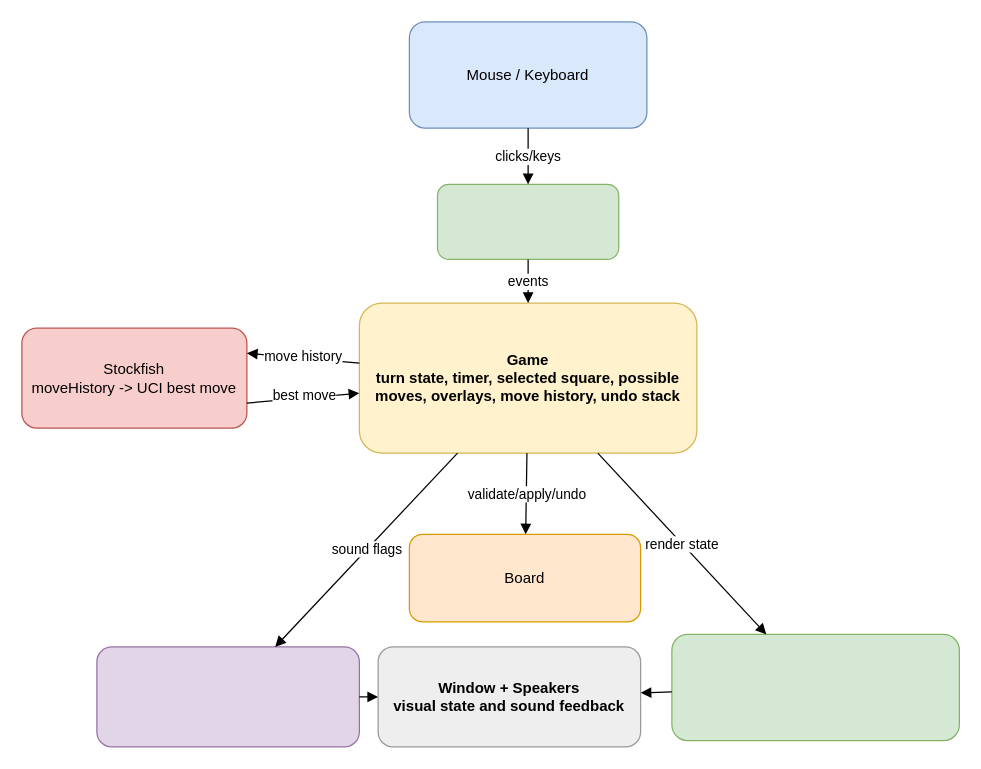
This 981x769 diagram has some shape labels left out. The centre of each missing label's shape, as x and y in pixels:
Audio move/capture/castle/check/start/end sounds: (x=227, y=696)
Draw board, pieces, highlights, timer, overlays, results: (x=815, y=687)
Input: (x=527, y=221)
